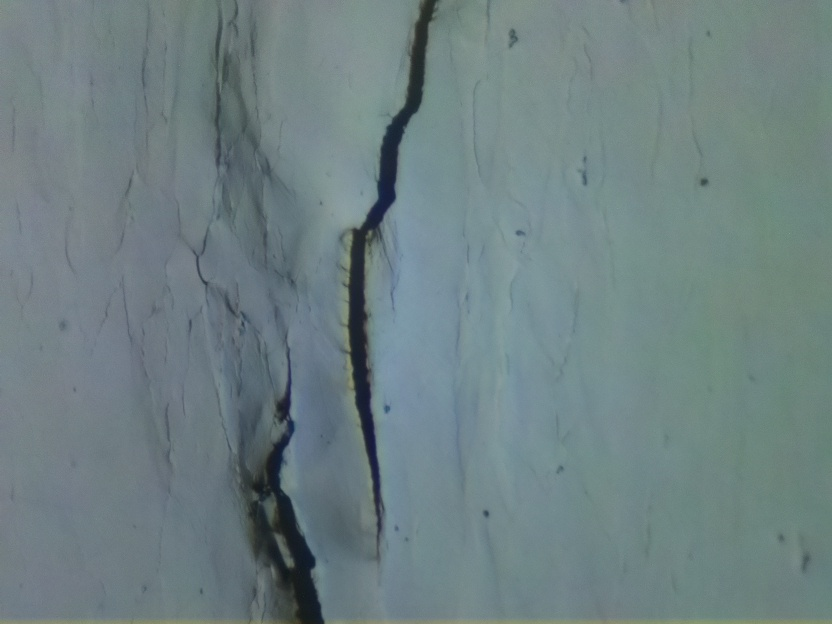crack: (345, 0, 445, 564), (242, 341, 321, 624)
